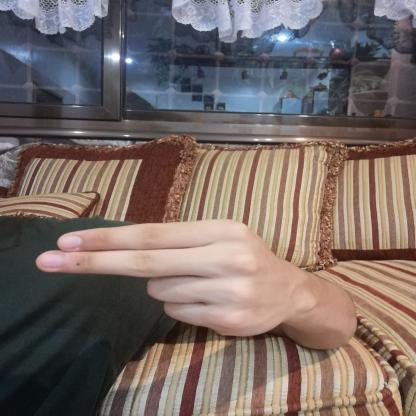AYN: (20, 211, 323, 348)
